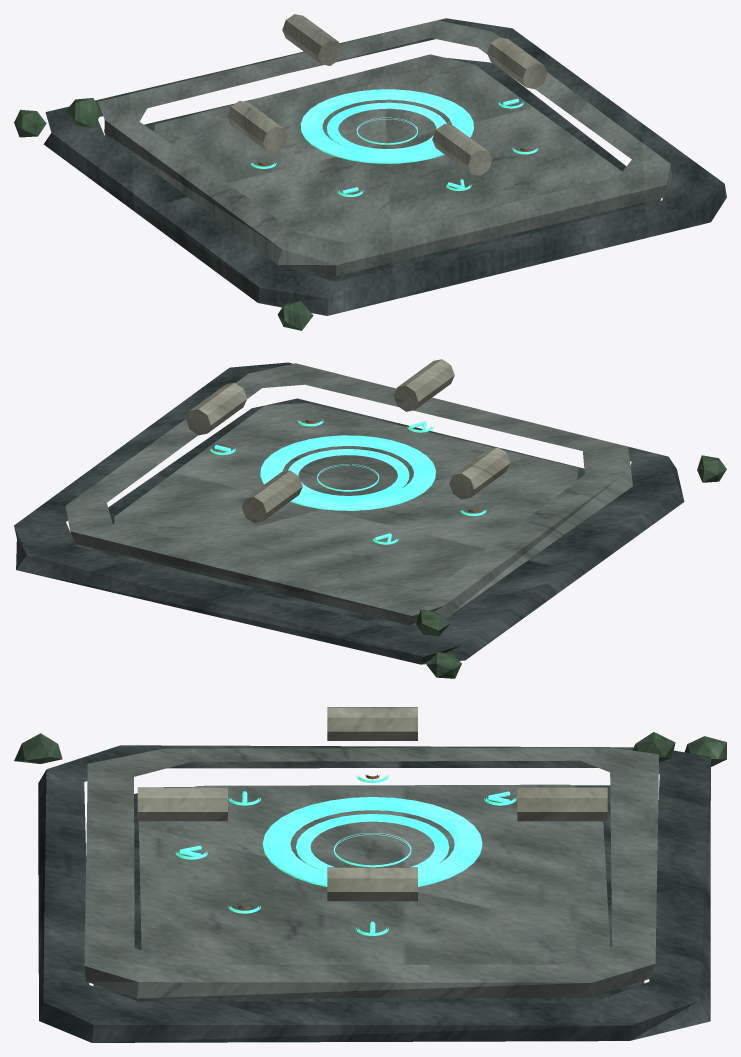
Rendered from 0567_rune_dais_17.glb.
3 views of the same model, one above another, from view 1: azimuth 30°, elevation 25°; view 2: azimuth 150°, elevation 25°; view 3: azimuth 270°, elevation 25° (orthographic). The views are drawn at different scales.
Parts seen in each view (by area): view 1: stone, stone_dark, stone_light, glow, moss; view 2: stone, stone_dark, glow, stone_light, moss; view 3: stone, stone_dark, stone_light, glow, moss.
Part boxes in pixels (left/top/right/bottom): stone: left=98, top=20, right=671, bottom=276; stone_dark: left=43, top=18, right=726, bottom=315; stone_light: left=227, top=14, right=547, bottom=175; glow: left=251, top=89, right=538, bottom=196; moss: left=14, top=98, right=313, bottom=330; stone: left=65, top=363, right=632, bottom=625; stone_dark: left=14, top=362, right=684, bottom=664; glow: left=210, top=419, right=486, bottom=544; stone_light: left=186, top=359, right=510, bottom=522; moss: left=416, top=455, right=726, bottom=678; stone: left=84, top=747, right=659, bottom=998; stone_dark: left=38, top=745, right=710, bottom=1042; stone_light: left=137, top=707, right=607, bottom=901; glow: left=175, top=775, right=516, bottom=935; moss: left=14, top=732, right=726, bottom=766.
Bounding box in the file's own units: 3.78 × 0.7239 × 3.94.
6 materials, 6 textured.
